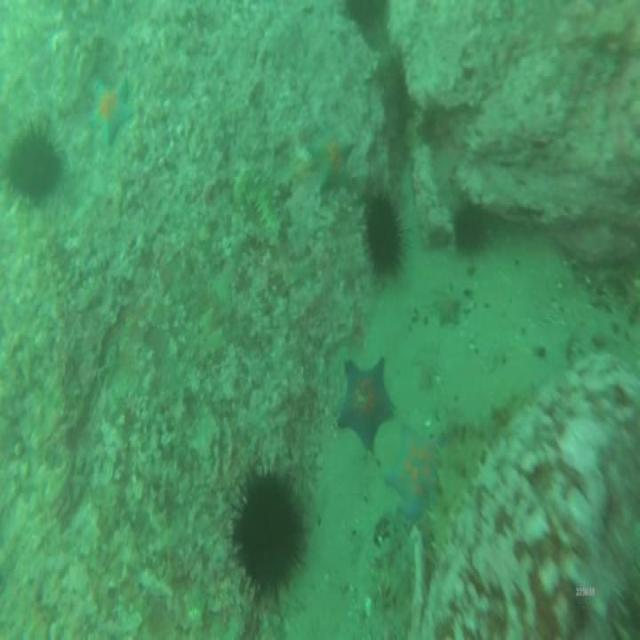echinus: (225, 454, 312, 608), (0, 114, 69, 212), (363, 186, 409, 282), (450, 207, 490, 254), (341, 0, 391, 35)
holothurian: (430, 423, 492, 538), (229, 158, 291, 250), (369, 534, 422, 640)
starfish: (335, 349, 398, 457), (384, 428, 445, 526), (305, 124, 357, 202), (84, 76, 136, 153), (430, 288, 463, 328)
